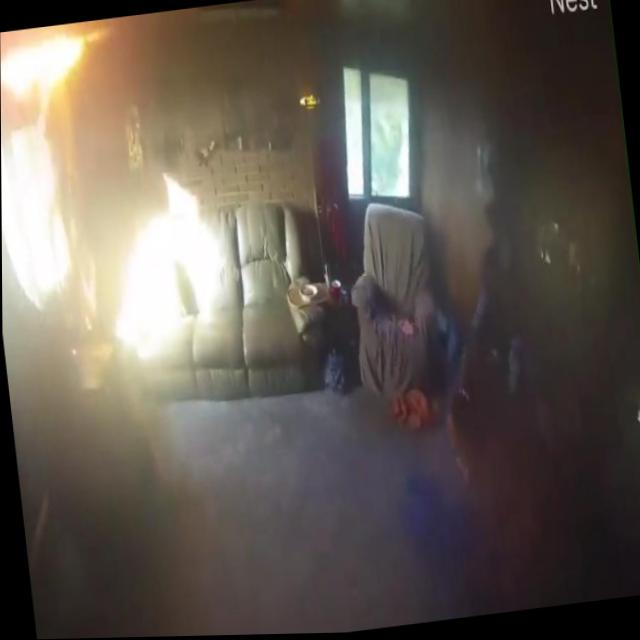fire: (0, 22, 105, 108)
